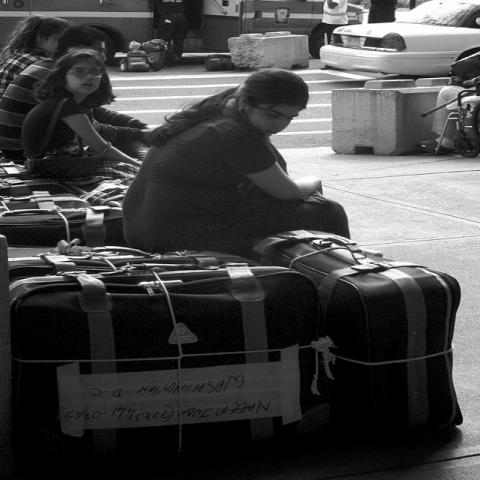car: (317, 1, 479, 78)
